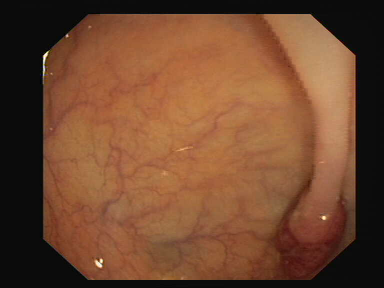polyp: (272, 165, 358, 261)
